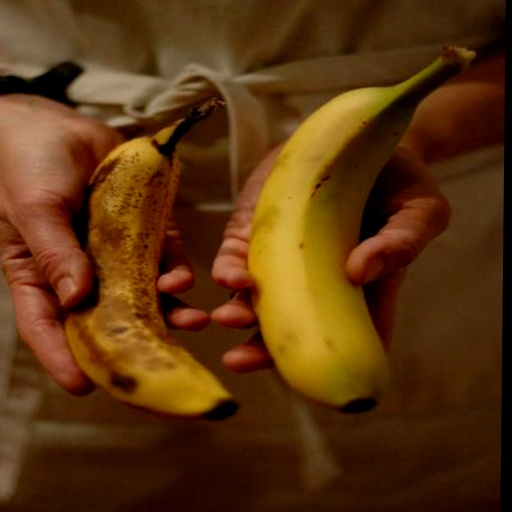fruit: (247, 47, 474, 410), (65, 100, 234, 417)
